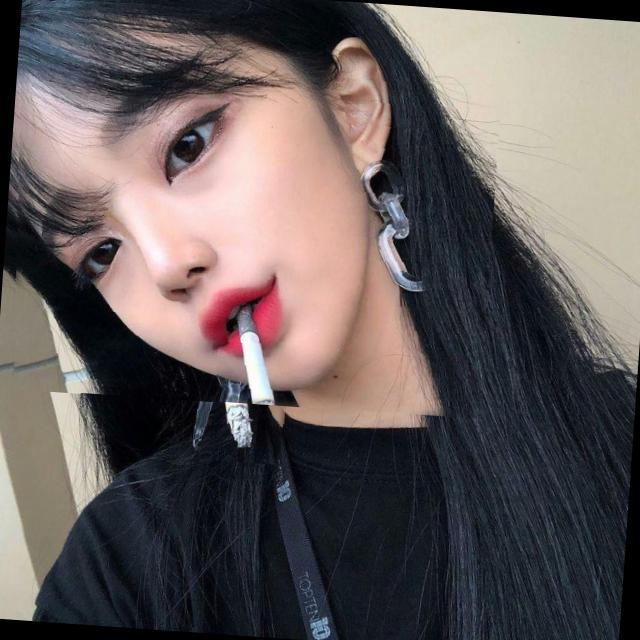cigarette: (193, 280, 301, 465)
